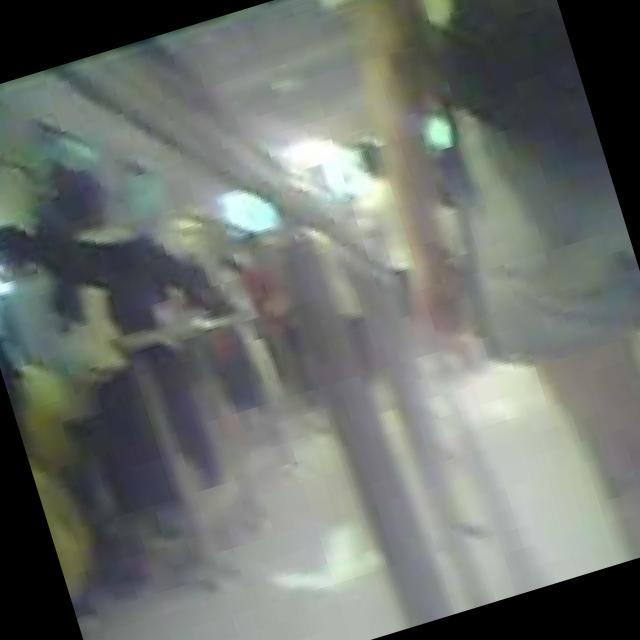person: (337, 0, 640, 592), (0, 128, 288, 584)
